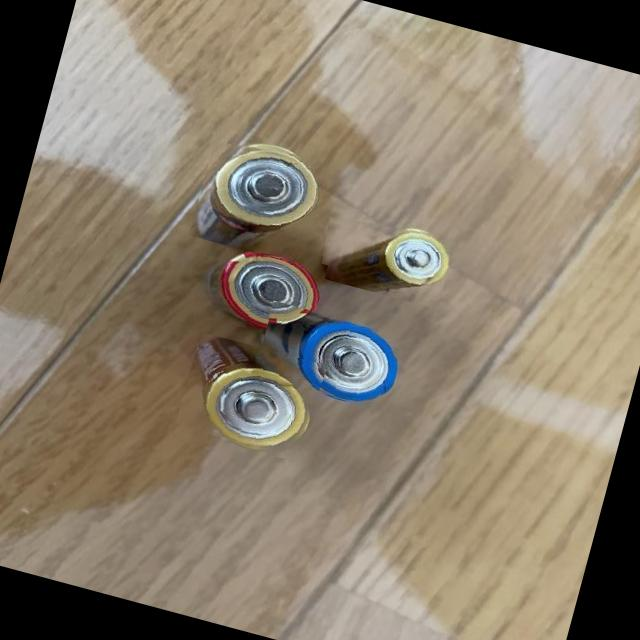Hazard: (172, 332, 326, 464), (187, 130, 327, 264), (251, 300, 405, 413), (190, 234, 326, 345), (312, 204, 455, 309)
